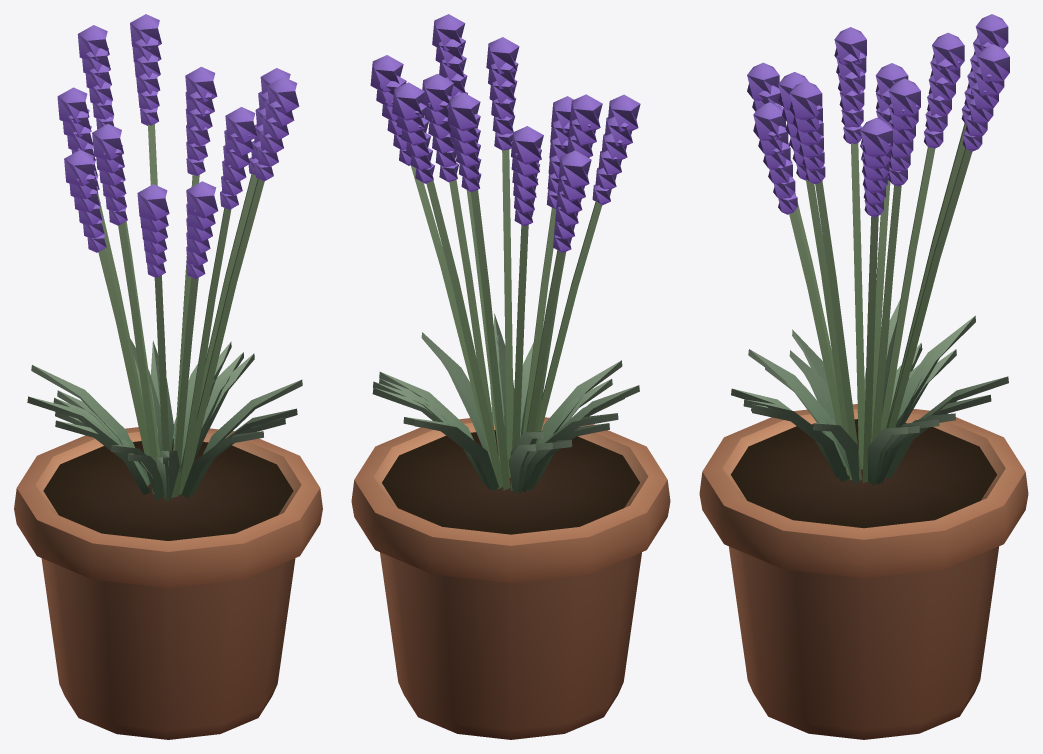
Rendered from pot_lavender.glb.
3 views of the same model, side by side, from view 1: azimuth 30°, elevation 25°; view 2: azimuth 150°, elevation 25°; view 3: azimuth 270°, elevation 25° (orthographic). The views are drawn at different scales.
Visible parts, largest first — view 1: pot_lavender; view 2: pot_lavender; view 3: pot_lavender.
Part boxes in pixels (x1,y1,x2,y2): pot_lavender: [14, 14, 322, 739]; pot_lavender: [351, 14, 670, 739]; pot_lavender: [699, 14, 1028, 739].
Bounding box in the file's own units: 0.464 × 1.05 × 0.464.
